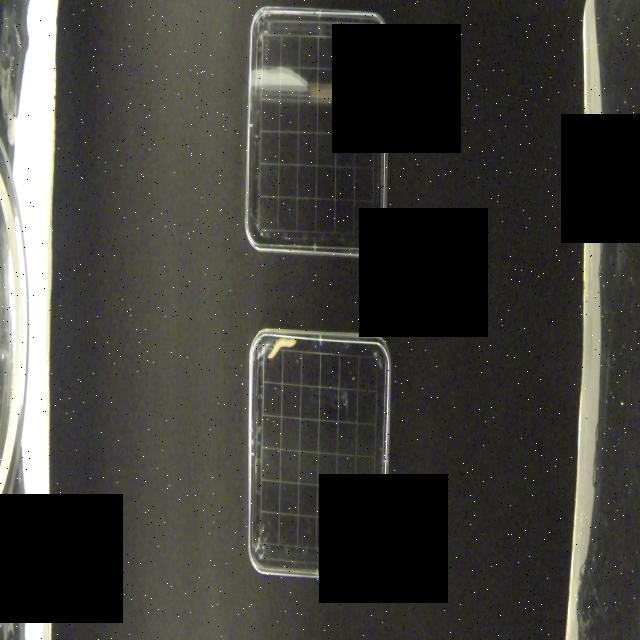larva: (266, 334, 299, 362), (371, 48, 384, 111)
